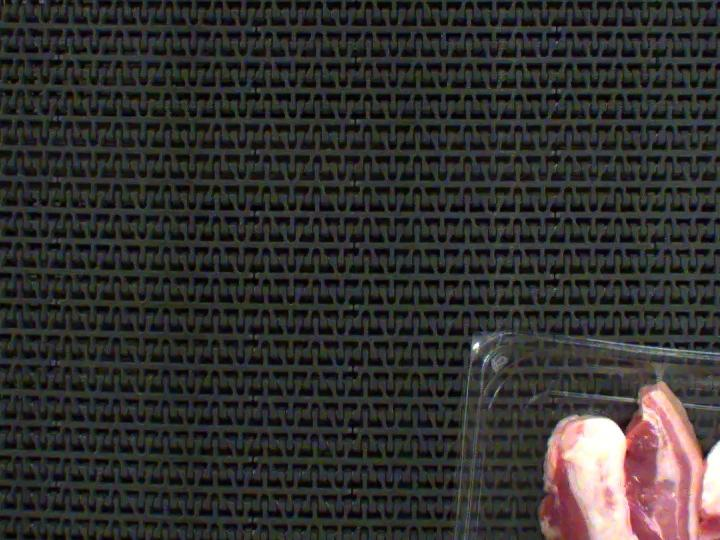packaging-error: (638, 349, 677, 390)
